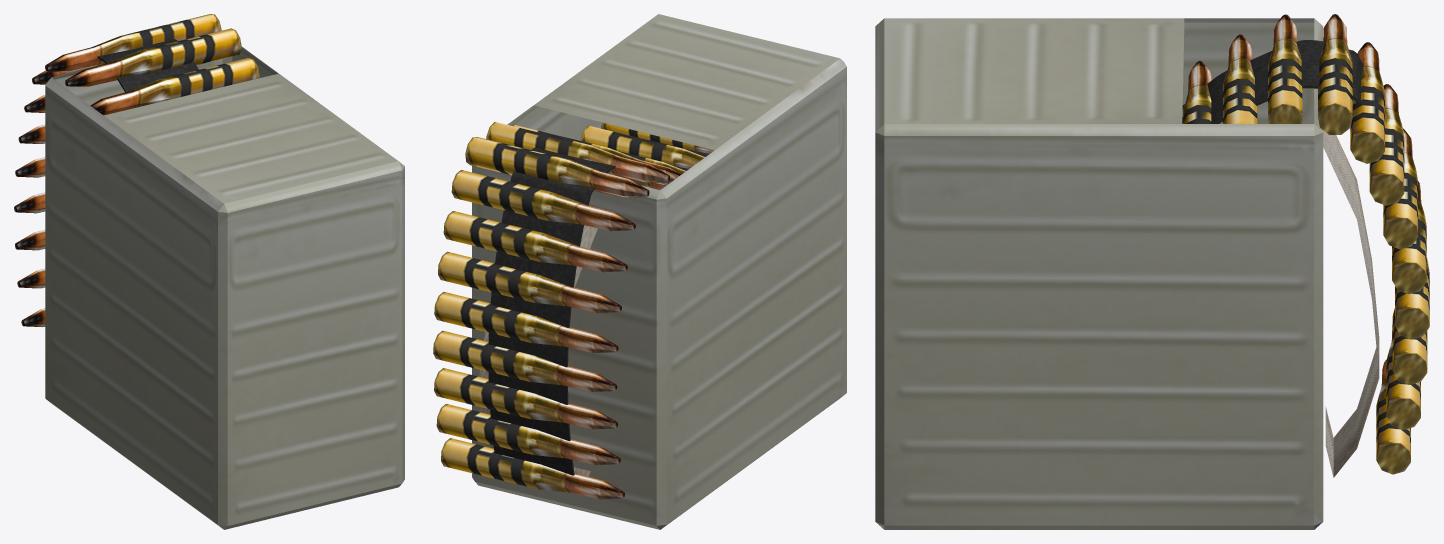
File: H4D005 Ammo Box.fbx
The picture shows the model from 3 angles, left to right: view 1: azimuth 30°, elevation 25°; view 2: azimuth 150°, elevation 25°; view 3: azimuth 270°, elevation 25°; orthographic projection. The views are drawn at different scales.
Parts seen in each view (by area): view 1: AmmoBox, AmmoBelt; view 2: AmmoBox, AmmoBelt; view 3: AmmoBox, AmmoBelt.
Part boxes in pixels (left/top/right/bottom): AmmoBox: left=45, top=46, right=404, bottom=529; AmmoBelt: left=14, top=14, right=259, bottom=327; AmmoBox: left=472, top=14, right=846, bottom=529; AmmoBelt: left=433, top=122, right=714, bottom=499; AmmoBox: left=875, top=18, right=1379, bottom=529; AmmoBelt: left=1182, top=14, right=1429, bottom=474.
Size of the model in its own units: 4.47 by 7.78 by 9.21.
1 material, 1 textured.
